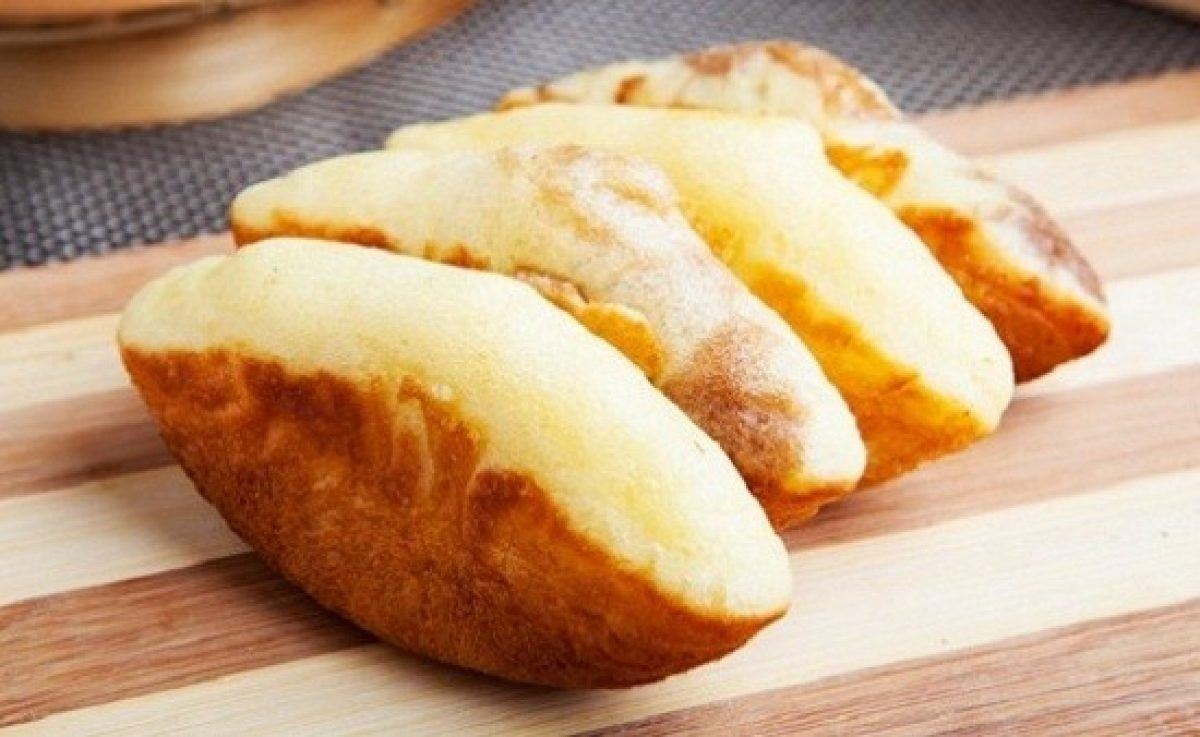pukis: (51, 192, 821, 705)
